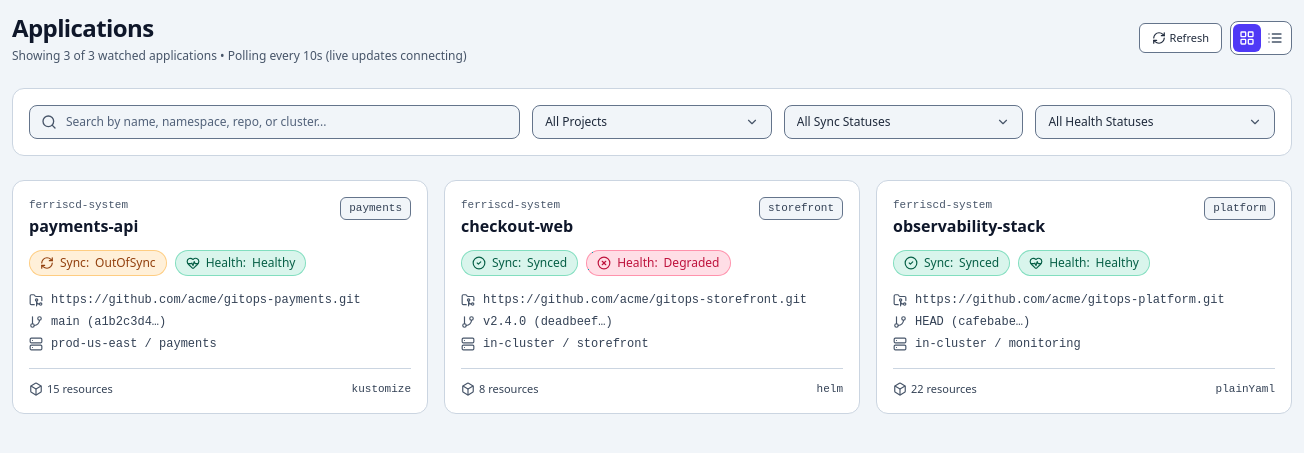
ApplicationsPage (T16.2 & Trap Guard T16.2) › keeps filters and layout in the URL so a filtered view survives navigation (H6)
Later steps or results of the test are not shown.
expect the element with test id "applications-grid" is shown: met, box left=12, top=180, right=1292, bottom=414
Click the dropdown named "Filter by project" at (652, 122), box left=532, top=105, right=772, bottom=139
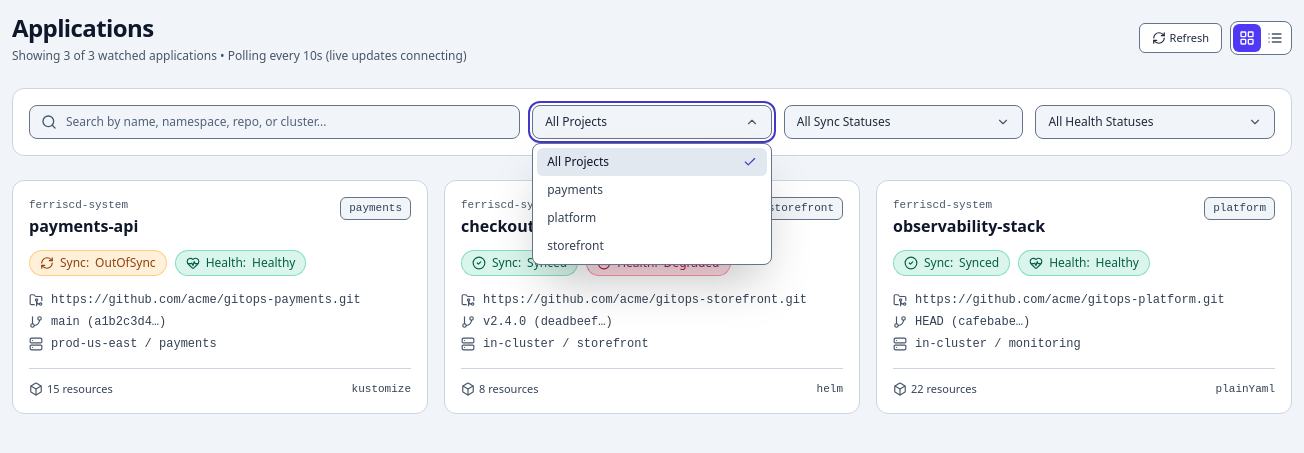
Click the option "payments" at (575, 190), box left=547, top=181, right=603, bottom=198
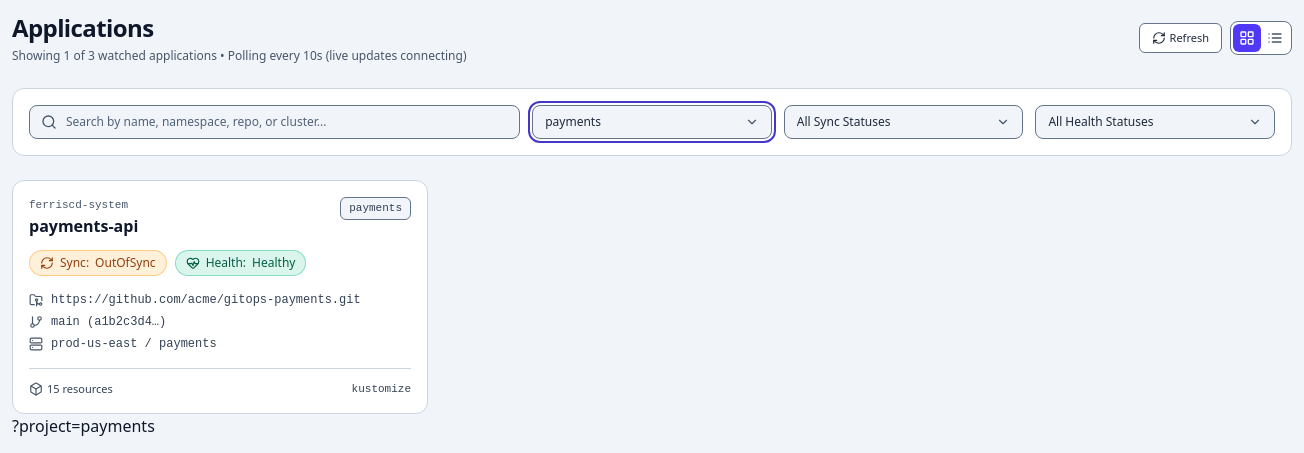
Click the button named "Table view" at (1275, 38), box left=1261, top=24, right=1289, bottom=52
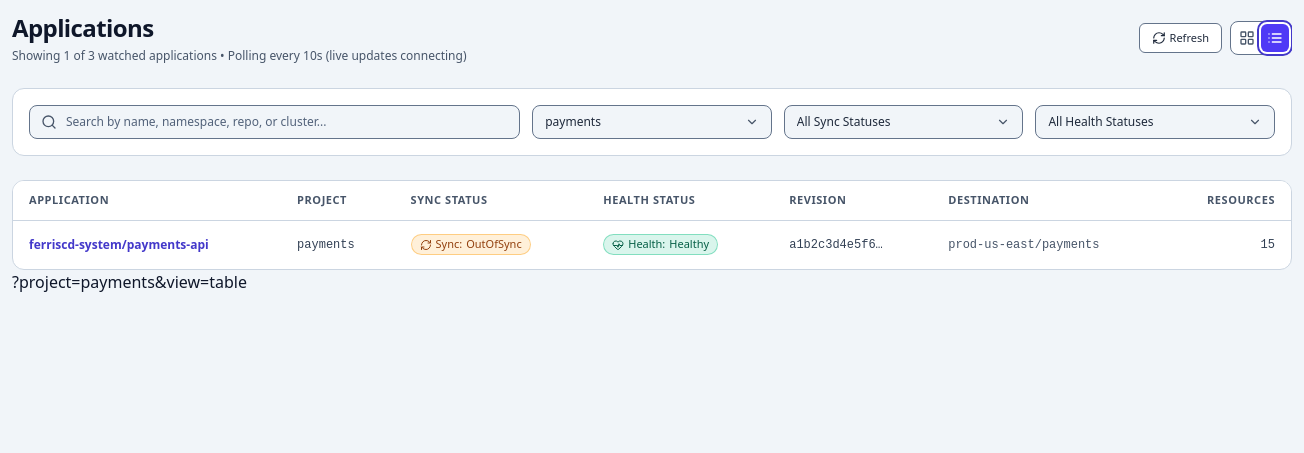
Type "payments" into the search field named "Search applications" at (275, 122), box left=29, top=105, right=520, bottom=139
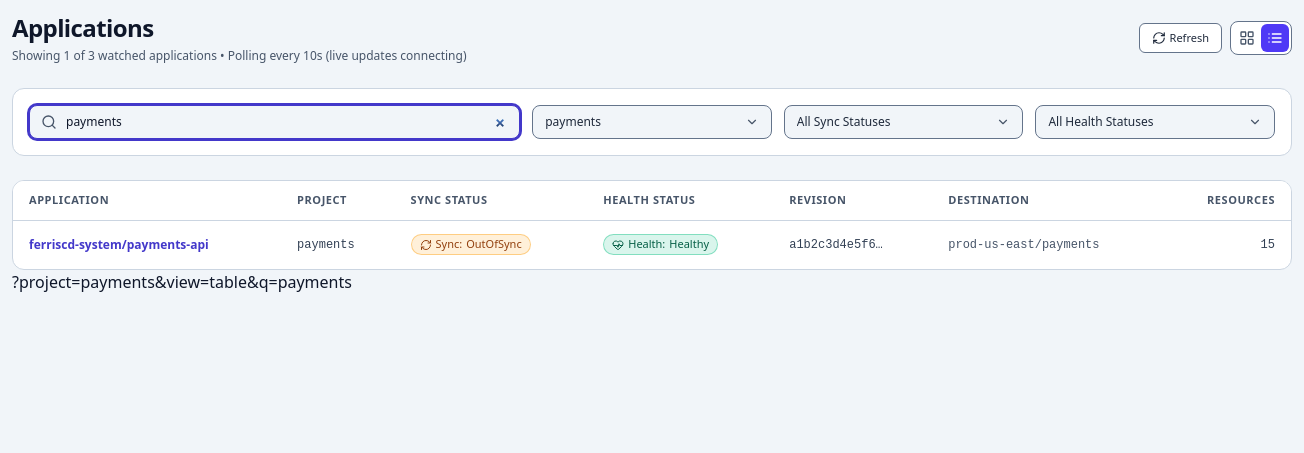
expect the text with test id "location-search" shows "project=payments": met, box left=12, top=271, right=352, bottom=293
expect the text with test id "location-search" shows "view=table": met, box left=12, top=271, right=352, bottom=293
expect the text with test id "location-search" shows "q=payments": met, box left=12, top=271, right=352, bottom=293
